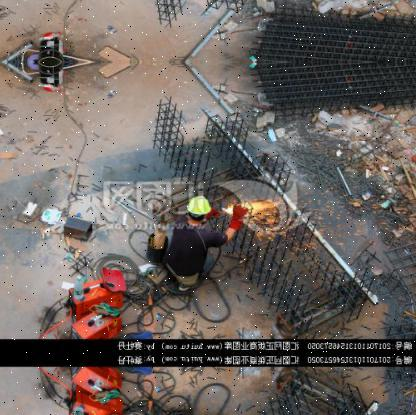helmet: (186, 194, 215, 221)
